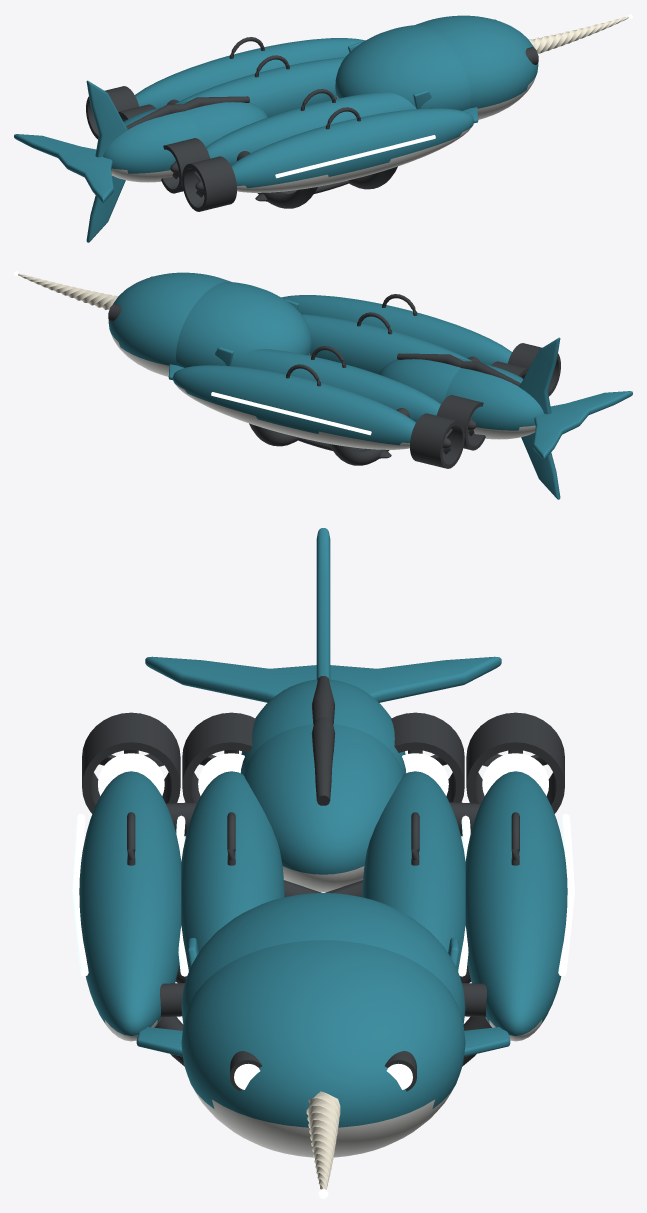
The model's file is Narwhal.glb.
3 views of the same model, one above another, from view 1: azimuth 30°, elevation 25°; view 2: azimuth 150°, elevation 25°; view 3: azimuth 270°, elevation 25° (orthographic). The views are drawn at different scales.
Parts seen in each view (by area): view 1: SM_Narwhal_Chassis, SM_Narwhal_Chassis_Collapsed; view 2: SM_Narwhal_Chassis, SM_Narwhal_Chassis_Collapsed; view 3: SM_Narwhal_Chassis, SM_Narwhal_Chassis_Collapsed.
Boxes of the visible parts, box(x1,y1,x2,y2) form: SM_Narwhal_Chassis: box(14, 14, 632, 211); SM_Narwhal_Chassis_Collapsed: box(86, 25, 470, 242); SM_Narwhal_Chassis: box(14, 271, 632, 468); SM_Narwhal_Chassis_Collapsed: box(176, 282, 560, 499); SM_Narwhal_Chassis: box(72, 656, 574, 1198); SM_Narwhal_Chassis_Collapsed: box(176, 528, 470, 1024).
Bounding box in the file's own units: 7.94 × 2.19 × 3.01.
